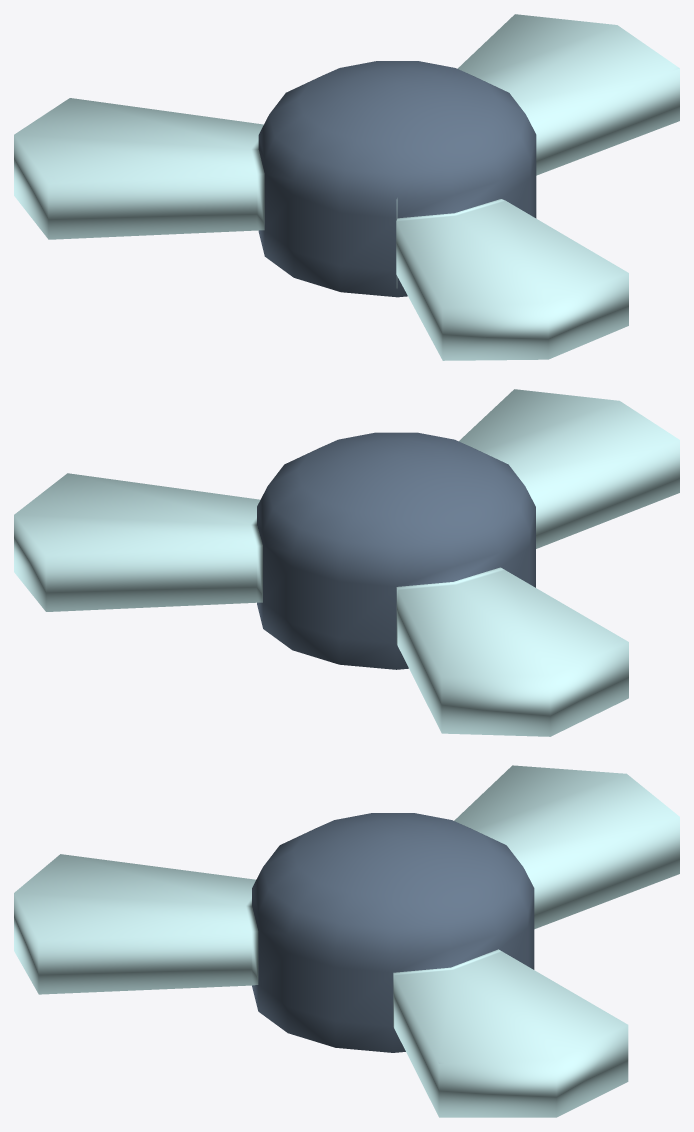
File: fanBlade.fbx
3 renders of one model, top to bottom at view 1: azimuth 30°, elevation 25°; view 2: azimuth 150°, elevation 25°; view 3: azimuth 270°, elevation 25°, orthographic.
Visible parts, largest first — view 1: pCylinder2; view 2: pCylinder2; view 3: pCylinder2.
Boxes of the visible parts, box(x1,y1,x2,y2) form: pCylinder2: box(14, 14, 679, 360); pCylinder2: box(14, 389, 679, 736); pCylinder2: box(14, 765, 679, 1117).
Bounding box in the file's own units: 9.66 × 2.39 × 9.22.
Materials: 1 (1 with a texture image).
